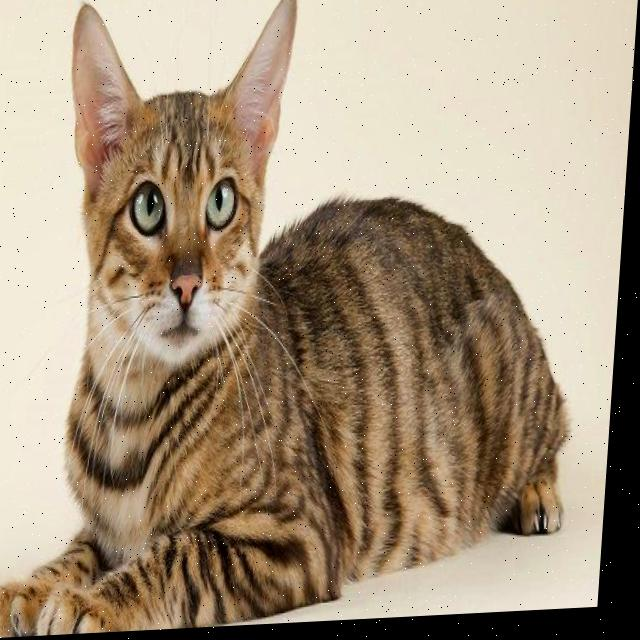Toyger: (0, 0, 606, 639)
